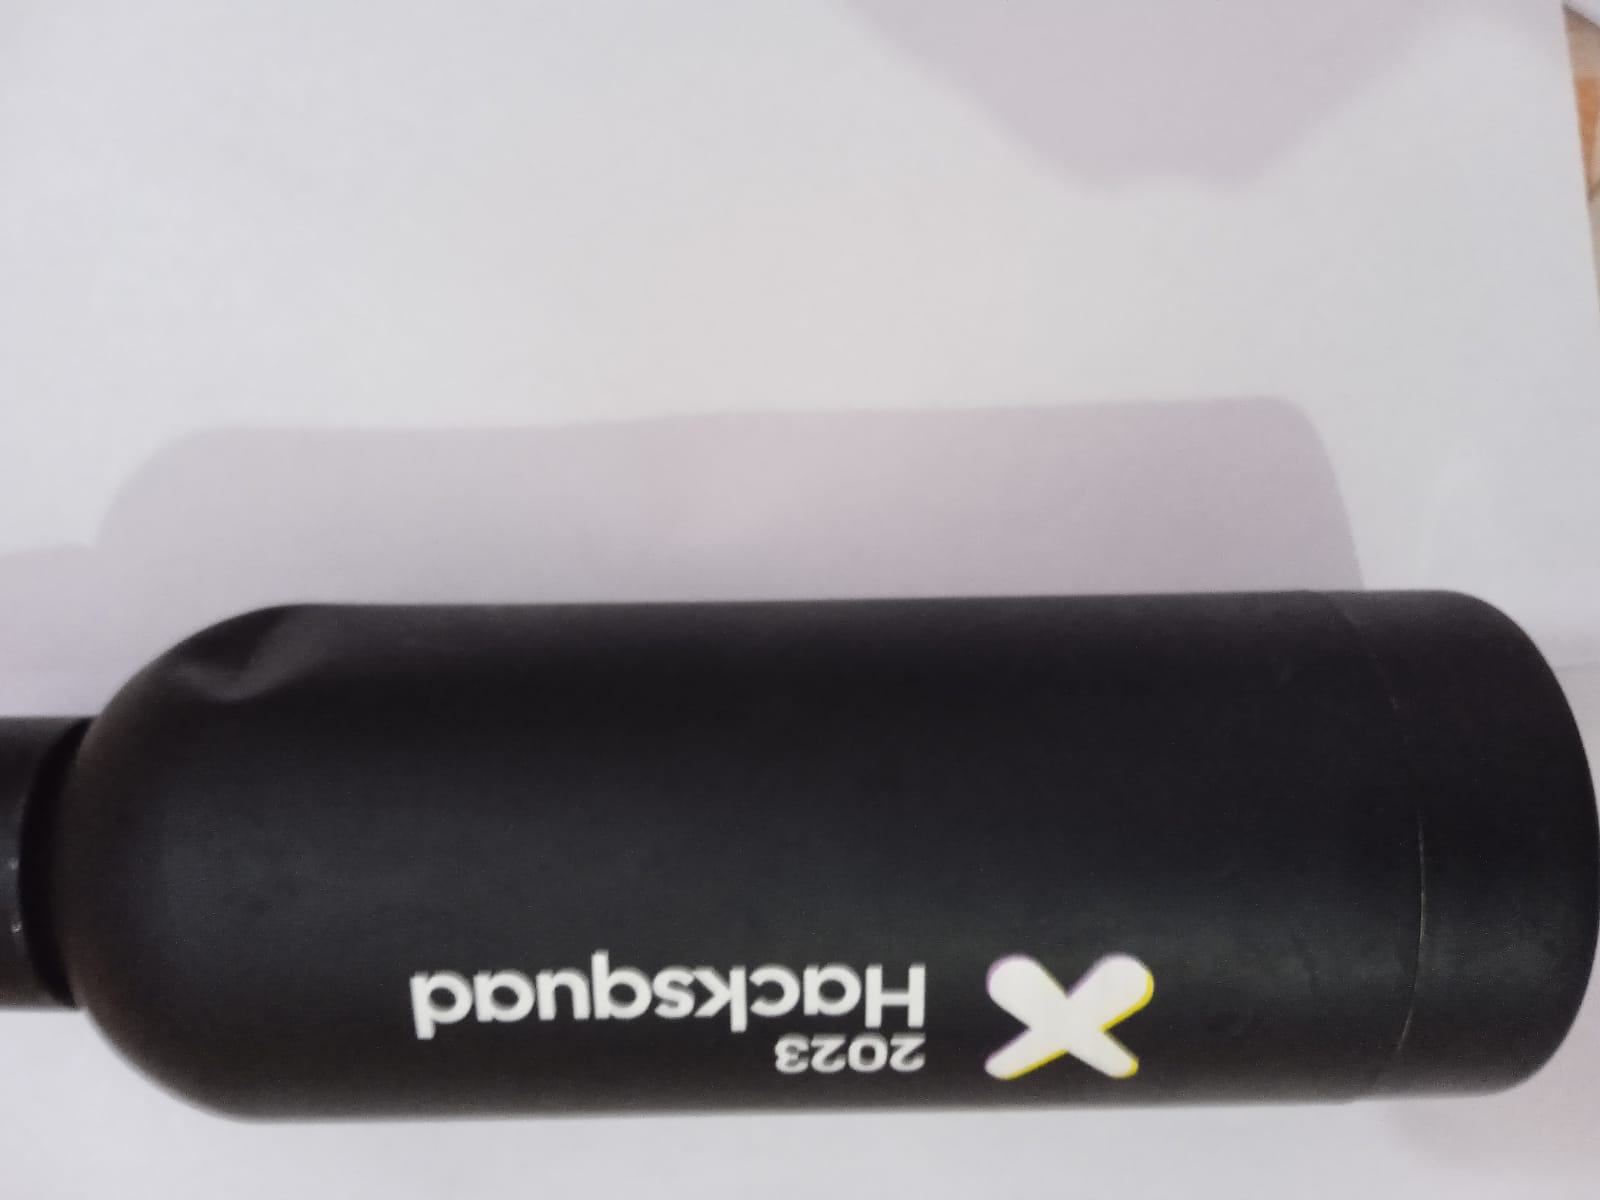bottle: (5, 487, 1600, 1129)
